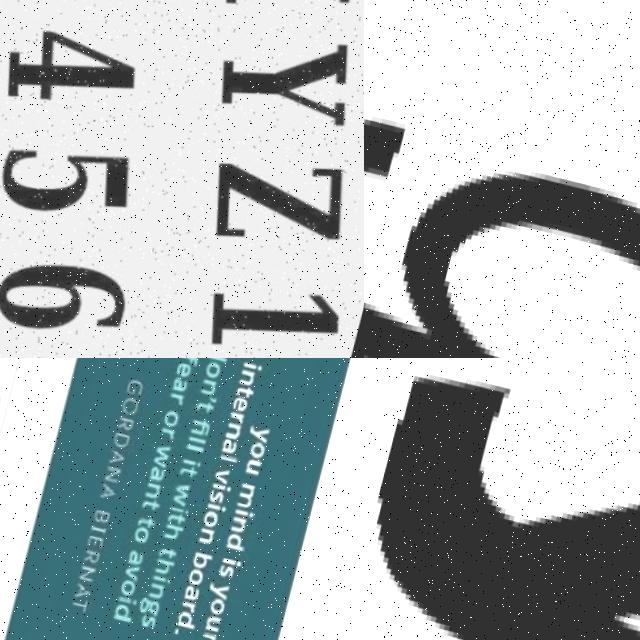1: (189, 251, 364, 358)
4: (0, 0, 161, 135)
5: (0, 102, 162, 245)
6: (0, 214, 185, 358)
A: (131, 546, 150, 564), (110, 445, 129, 463), (77, 580, 96, 598), (101, 482, 121, 499), (188, 582, 205, 599), (223, 434, 240, 451), (152, 463, 168, 479), (174, 374, 189, 390)
B: (195, 549, 217, 567), (97, 508, 114, 522)
D: (228, 528, 251, 548), (181, 608, 204, 627), (117, 600, 140, 619), (115, 430, 132, 446)
E: (233, 391, 252, 409), (176, 358, 194, 375), (90, 533, 107, 547)
F: (194, 415, 215, 430), (180, 358, 201, 362)
G: (364, 83, 640, 358), (143, 594, 165, 614), (127, 375, 146, 393)
H: (168, 521, 188, 539), (160, 556, 179, 573)
I: (238, 505, 258, 515), (227, 553, 247, 563), (185, 455, 205, 465), (244, 358, 264, 367), (215, 480, 235, 489), (174, 503, 193, 512), (123, 594, 142, 603), (194, 424, 211, 434), (158, 573, 176, 581), (210, 501, 230, 508), (94, 522, 111, 530)
L: (222, 449, 243, 461), (188, 440, 207, 449), (191, 433, 210, 442)
M: (240, 479, 260, 505)
N: (239, 365, 258, 383), (202, 374, 220, 393), (234, 513, 252, 531), (82, 562, 100, 580), (106, 464, 125, 481), (148, 479, 165, 496), (202, 525, 218, 542), (228, 420, 244, 436), (154, 579, 169, 596)
O: (122, 393, 142, 414), (251, 436, 271, 456), (135, 522, 155, 542), (212, 594, 232, 613), (203, 358, 223, 377), (205, 506, 224, 525), (124, 574, 142, 594), (191, 565, 209, 584), (165, 405, 182, 424)
R: (87, 547, 104, 562), (119, 415, 136, 428), (230, 408, 248, 420), (162, 424, 178, 437), (185, 598, 201, 610), (171, 389, 186, 401), (207, 629, 222, 640)
S: (146, 611, 162, 627), (223, 561, 240, 576), (211, 488, 229, 500)
T: (197, 396, 218, 413), (145, 493, 165, 510), (74, 594, 93, 611), (237, 380, 258, 395), (182, 461, 203, 476), (140, 512, 161, 527), (162, 544, 182, 558), (172, 509, 191, 521)
U: (209, 612, 228, 629), (248, 454, 264, 471)
V: (217, 464, 234, 480), (127, 562, 144, 578)
W: (174, 479, 194, 503), (155, 441, 174, 465)
Y: (364, 358, 640, 640), (250, 420, 273, 440), (212, 579, 234, 597)
